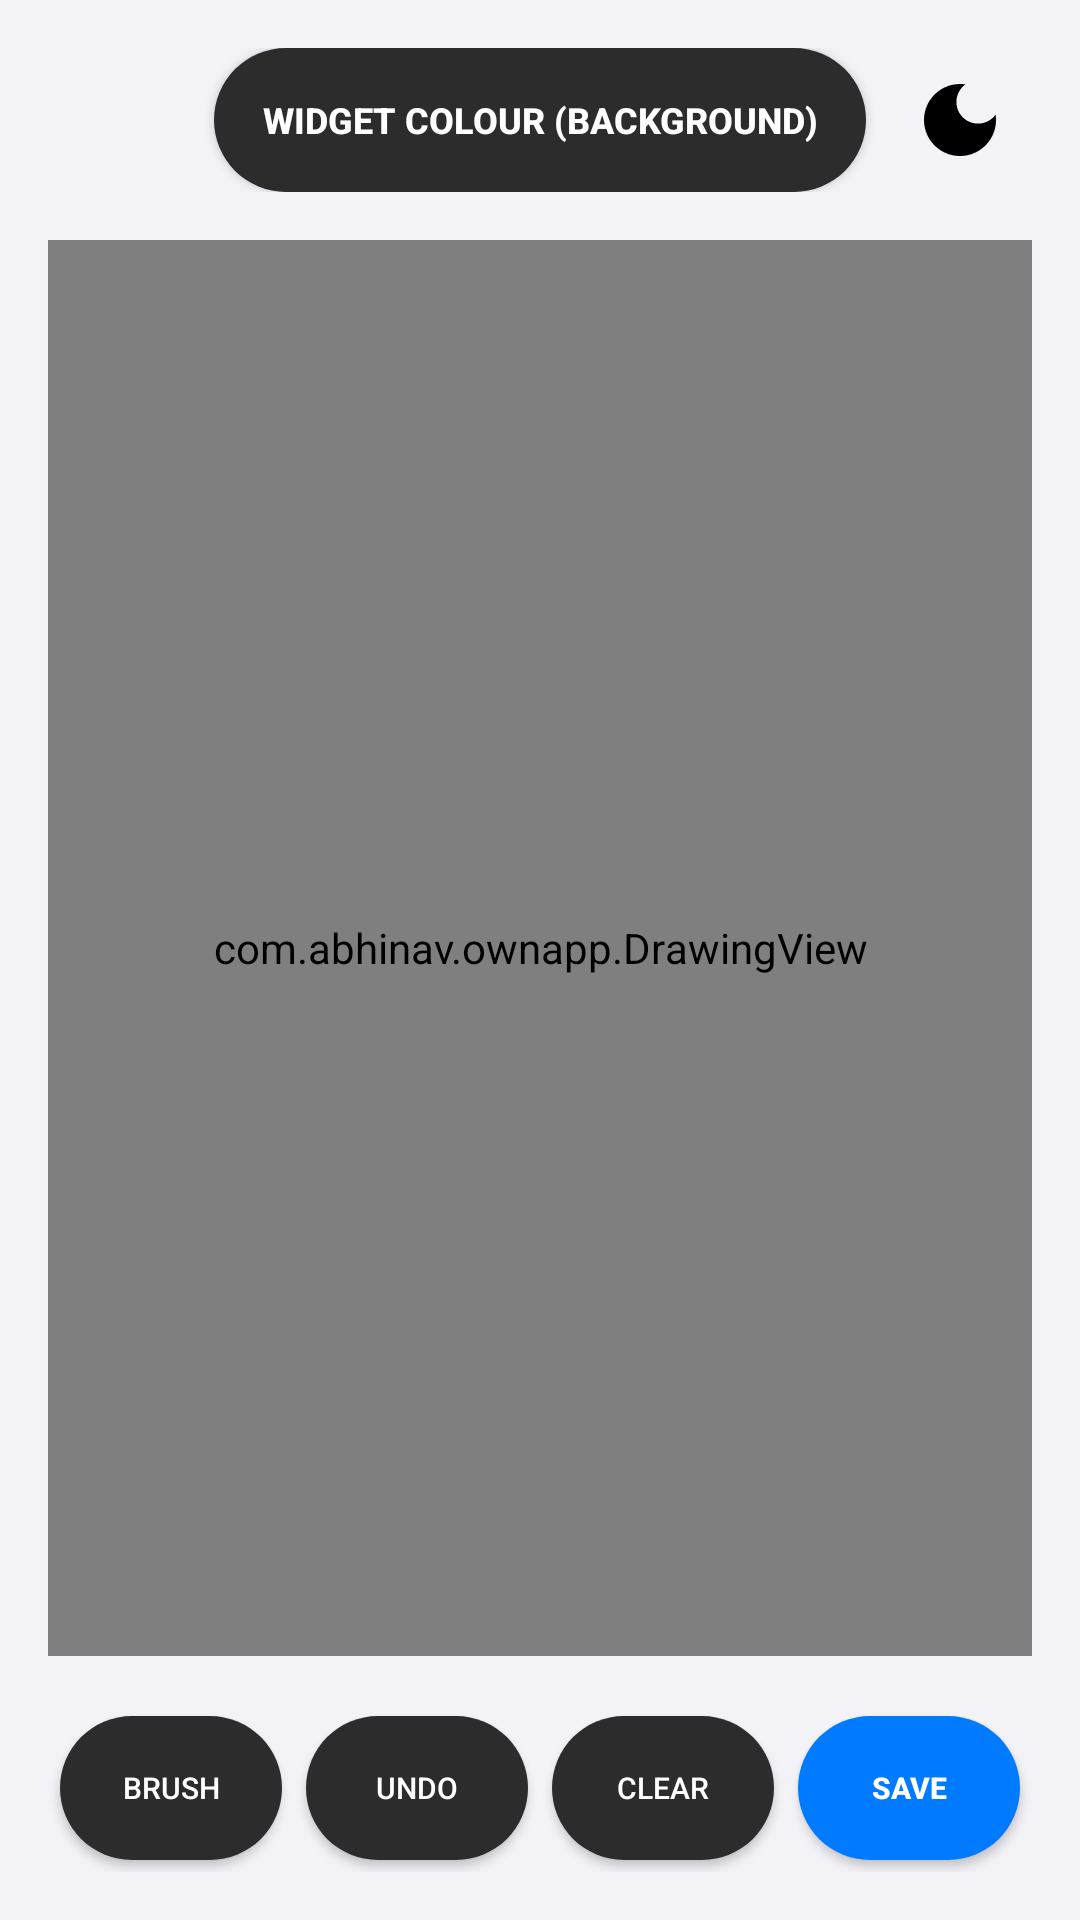

Icons on this 1080x1920 Android screen, each with its box as [left=x1, top=y1, right=x2, bottom=y2]:
moon: [left=924, top=84, right=996, bottom=156]
